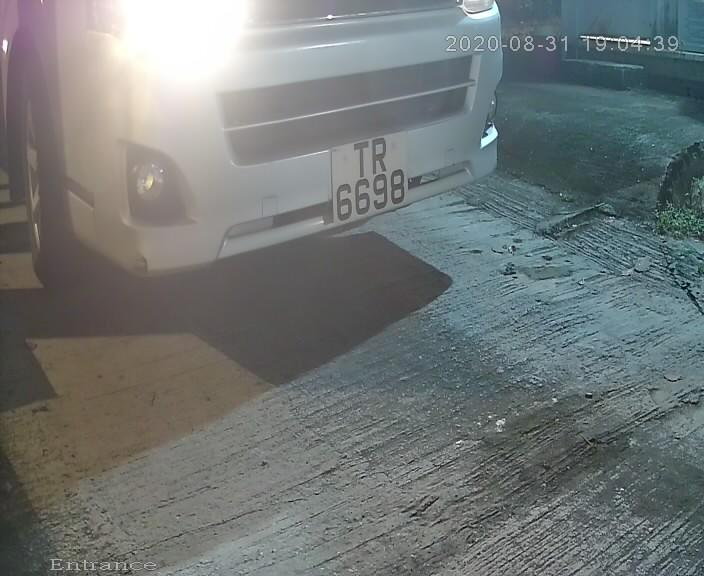License Plate: (312, 121, 422, 240)
